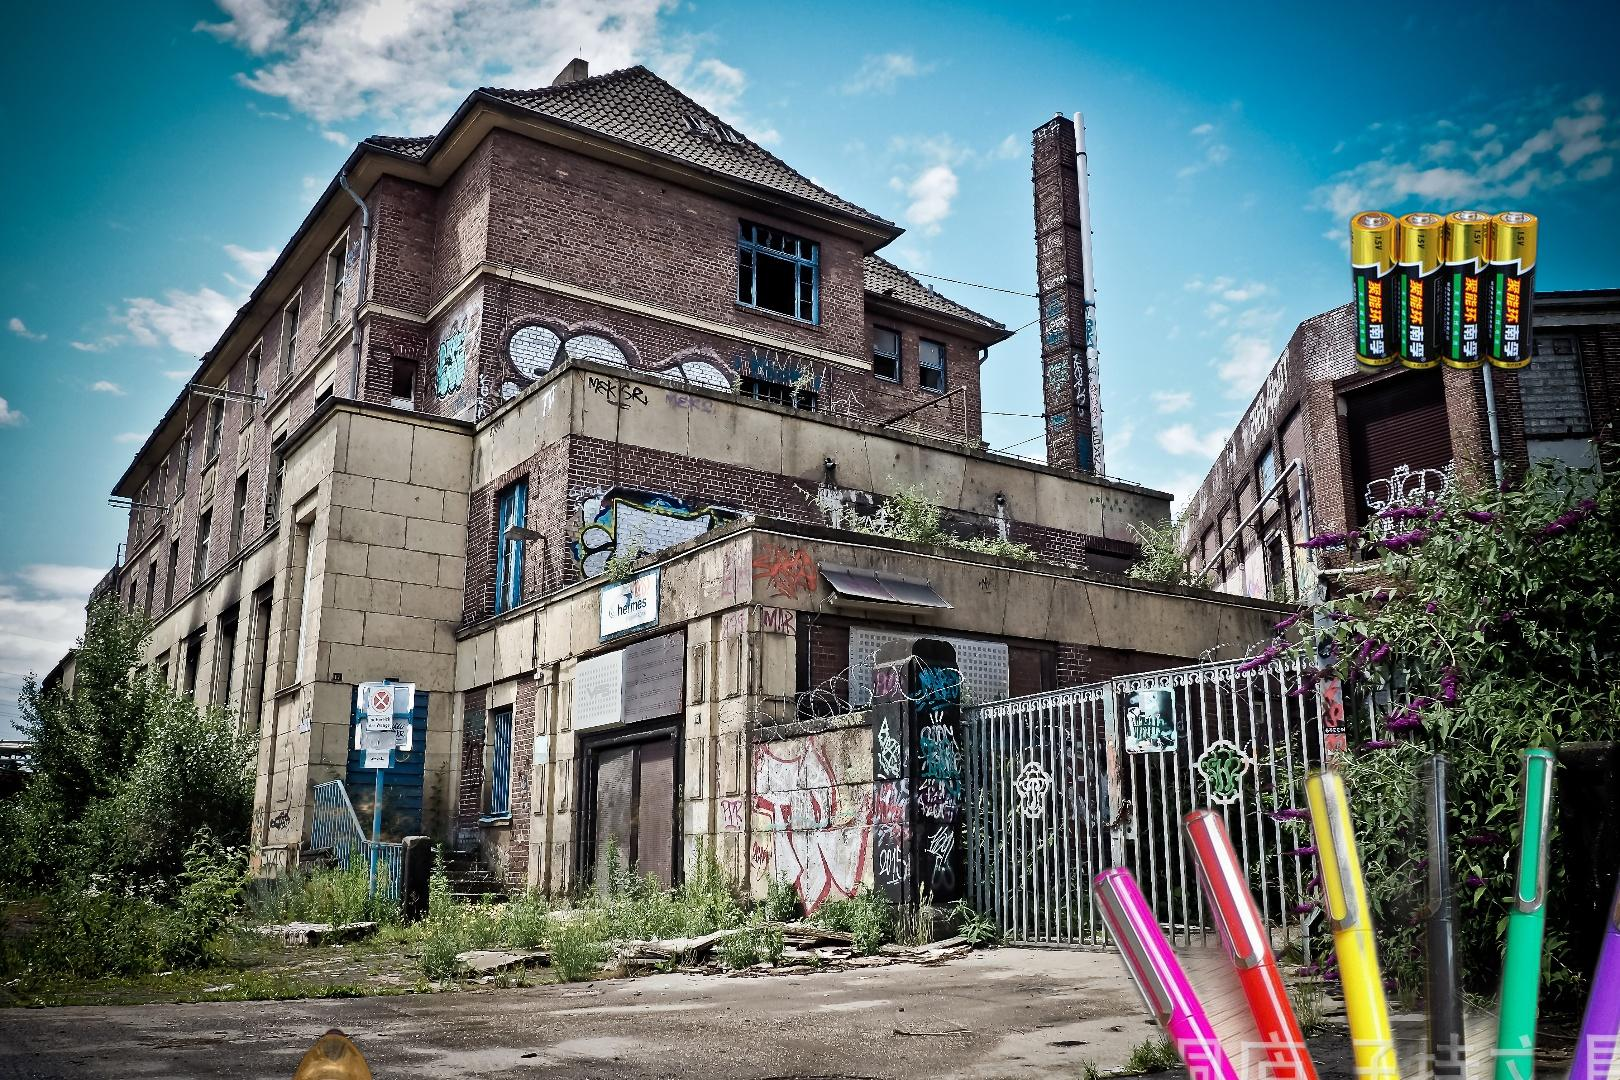battery: (1344, 206, 1544, 378)
penholder: (1084, 562, 1620, 1080)
plastic-bottles: (270, 1023, 391, 1080)
trashbox-cardboard: (81, 753, 693, 1080)
